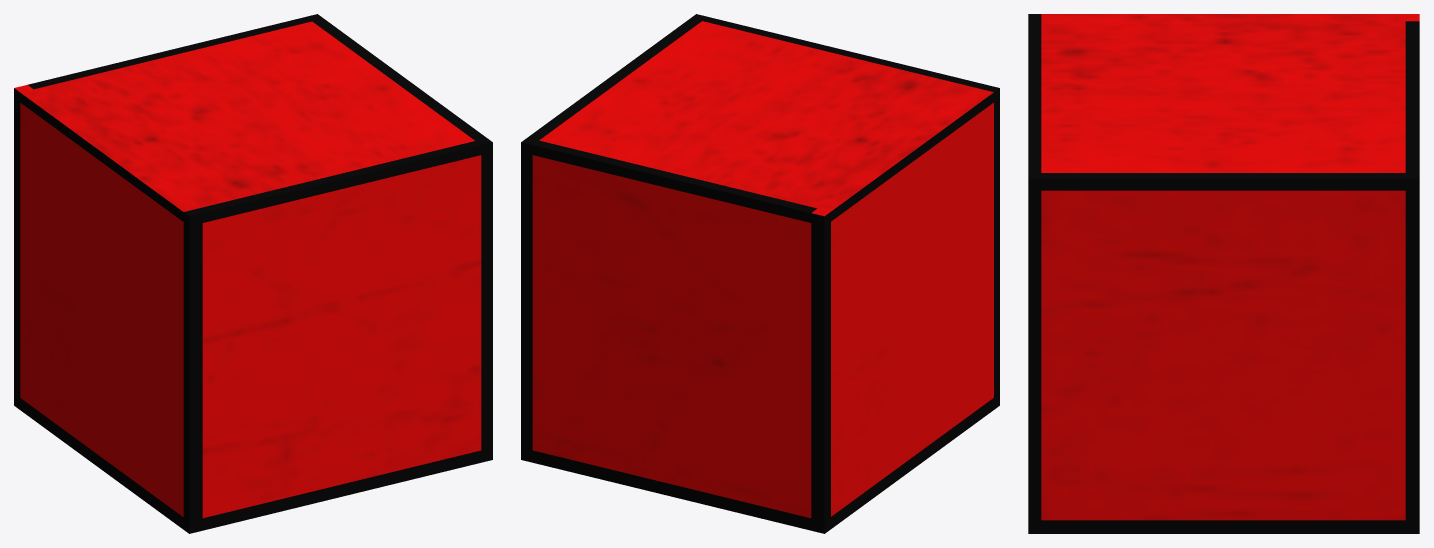
Rendered from playerbody.fbx.
The picture shows the model from 3 angles, left to right: view 1: azimuth 30°, elevation 25°; view 2: azimuth 150°, elevation 25°; view 3: azimuth 270°, elevation 25°; orthographic projection. The views are drawn at different scales.
Visible parts, largest first — view 1: 球.003; view 2: 球.003; view 3: 球.003.
Part boxes in pixels (x1,y1,x2,y2): 球.003: (14,14,492,533); 球.003: (521,14,999,533); 球.003: (1028,14,1419,533).
Size of the model in its own units: 200 by 200 by 200.
